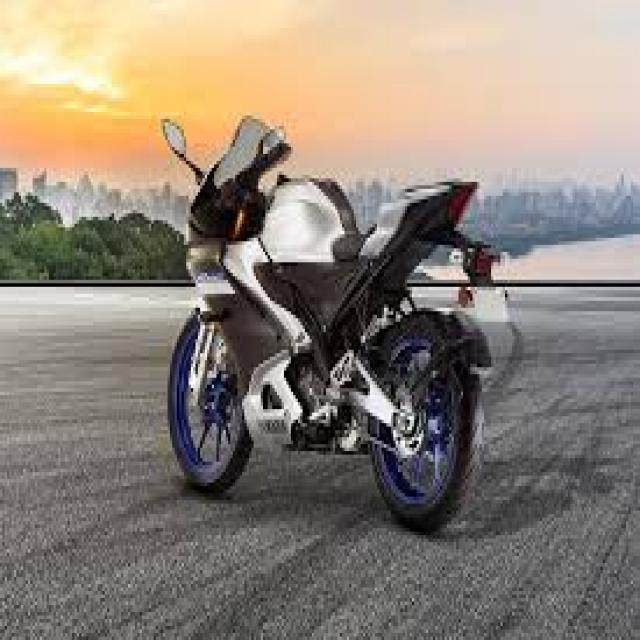Bike: (162, 113, 512, 538)
